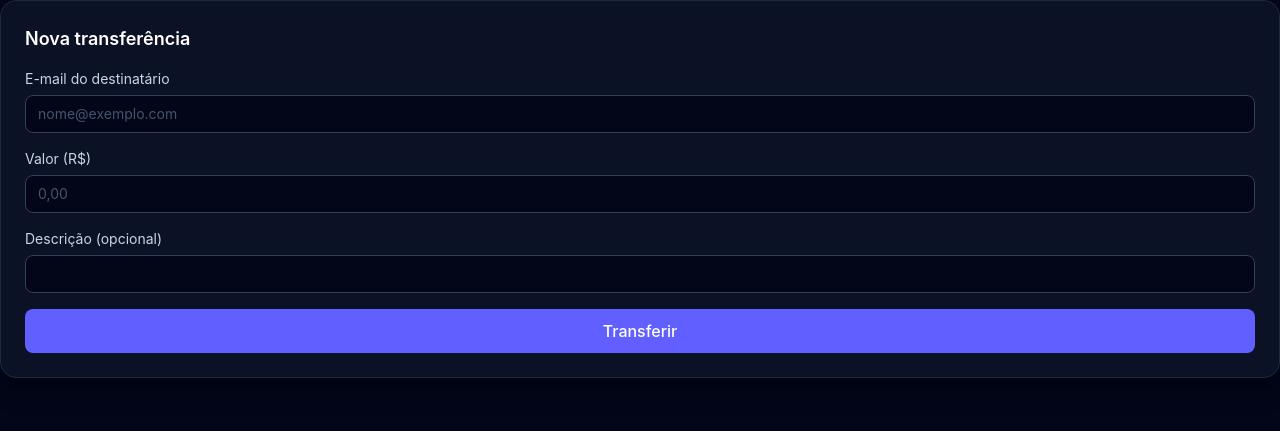
Test case: TransferForm › sends the amount in cents with an Idempotency-Key header
The image size is (1280, 431).
Type "bob@example.com" into the field labelled "E-mail do destinatário".
click(640, 114); type("bob@example.com")  # box [25,95,1255,133]
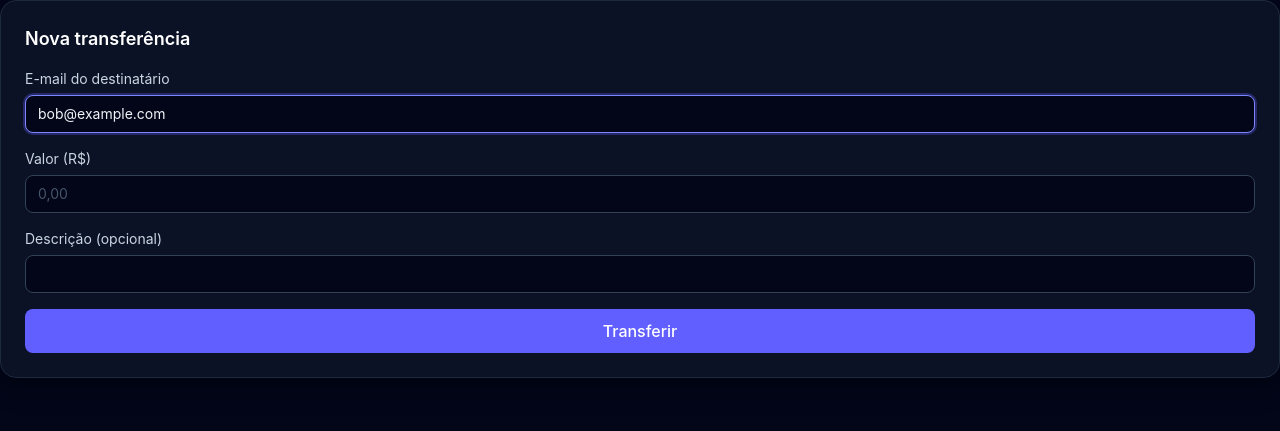
Type "25,90" into the field labelled "Valor (R$)".
click(640, 194); type("25,90")  # box [25,175,1255,213]
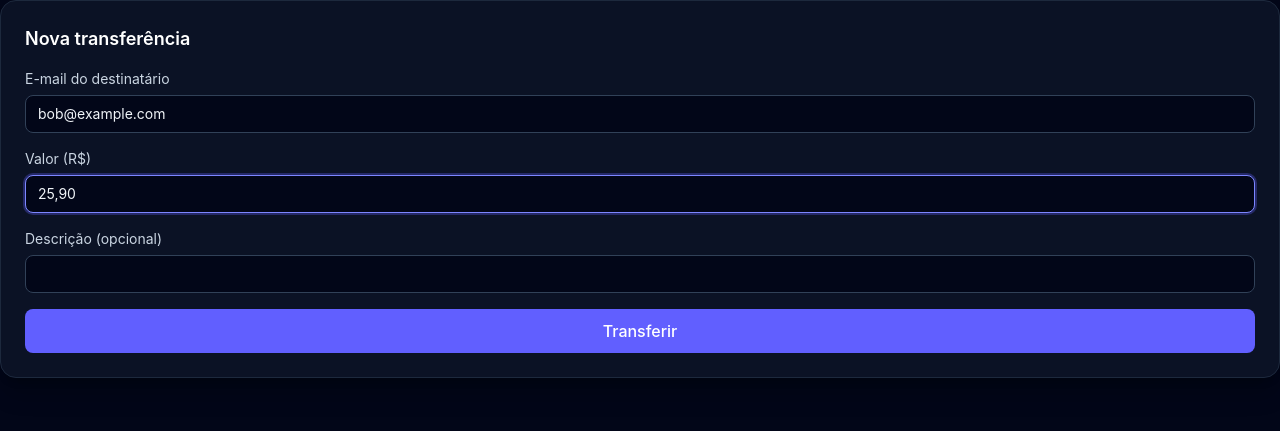
Click the button "Transferir".
click(640, 331)  # box [25,309,1255,353]
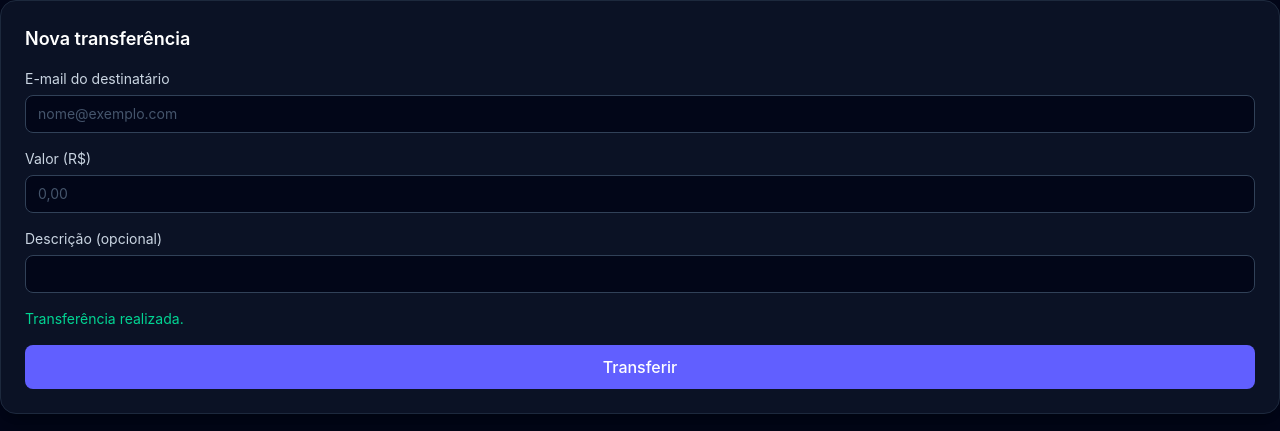
Now the message shows "realizada", box [25,310,184,327]
